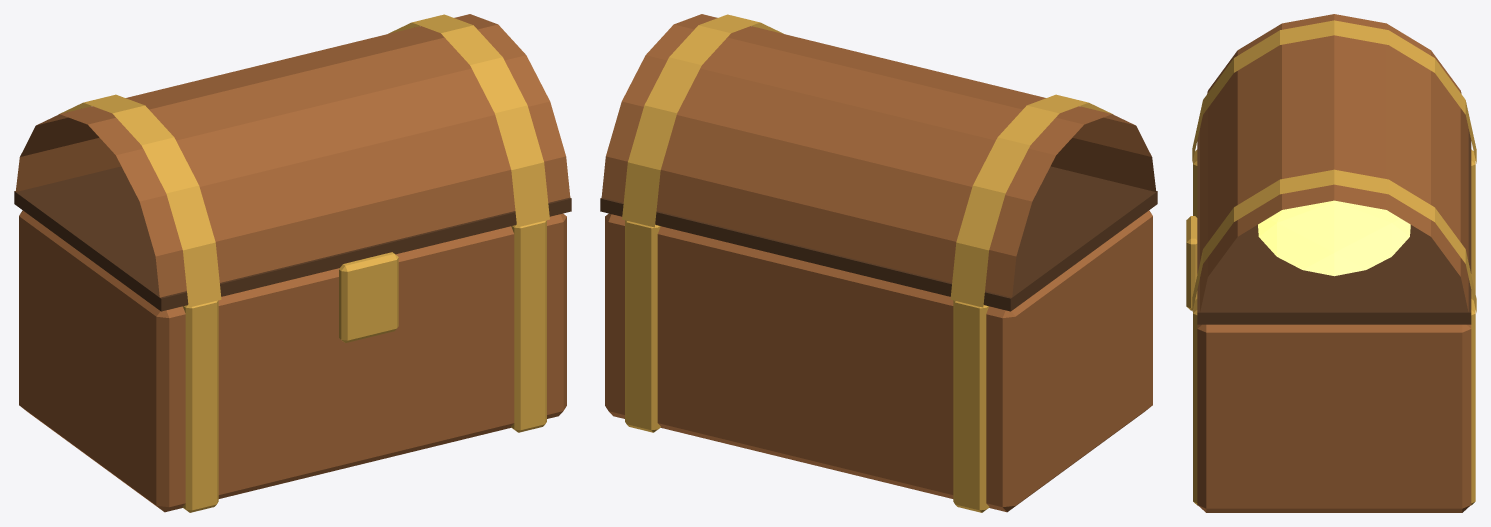
Rendered from map3_chest_v01.glb.
3 renders of one model, left to right at view 1: azimuth 30°, elevation 25°; view 2: azimuth 150°, elevation 25°; view 3: azimuth 270°, elevation 25°, orthographic. The views are drawn at different scales.
Parts seen in each view (by area): view 1: chest_base, chest_lid; view 2: chest_base, chest_lid; view 3: chest_lid, chest_base.
Part boxes in pixels (bbox=[...]): chest_base: bbox=[19, 210, 566, 512]; chest_lid: bbox=[14, 14, 571, 311]; chest_base: bbox=[605, 210, 1152, 512]; chest_lid: bbox=[600, 14, 1157, 311]; chest_lid: bbox=[1192, 14, 1476, 324]; chest_base: bbox=[1186, 149, 1475, 512].
Size of the model in its own units: 1 by 0.807 by 0.657.
